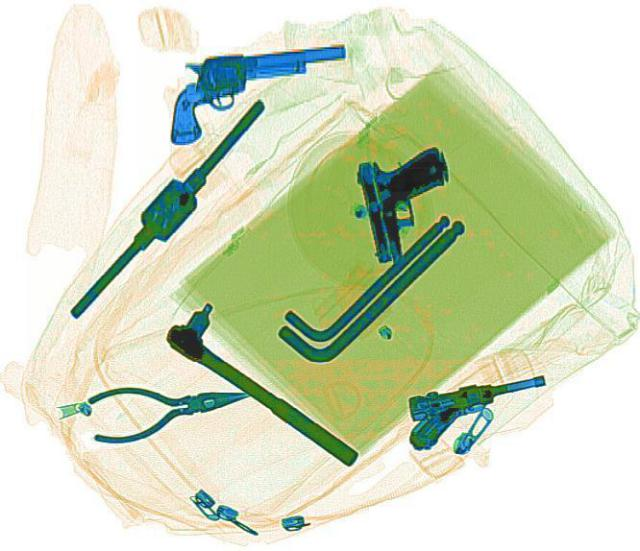Gun: (154, 42, 360, 144), (396, 369, 558, 451), (354, 144, 461, 264)
Pliers: (82, 369, 256, 443)
